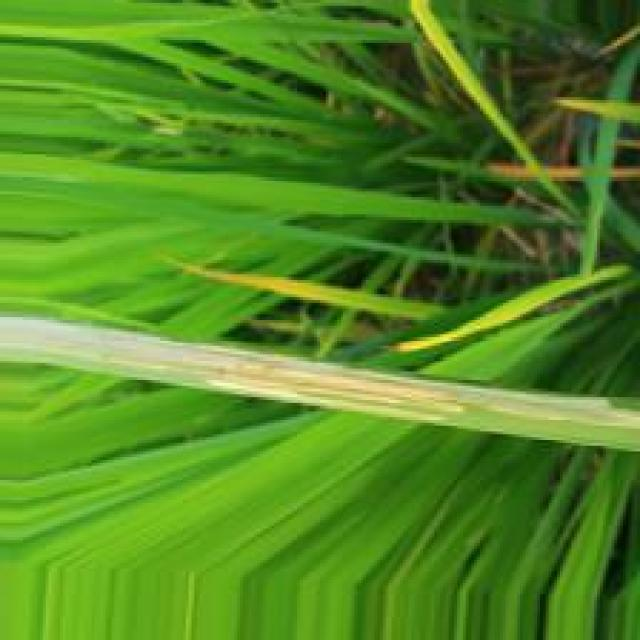Rice_Hispa: (2, 319, 640, 432)
